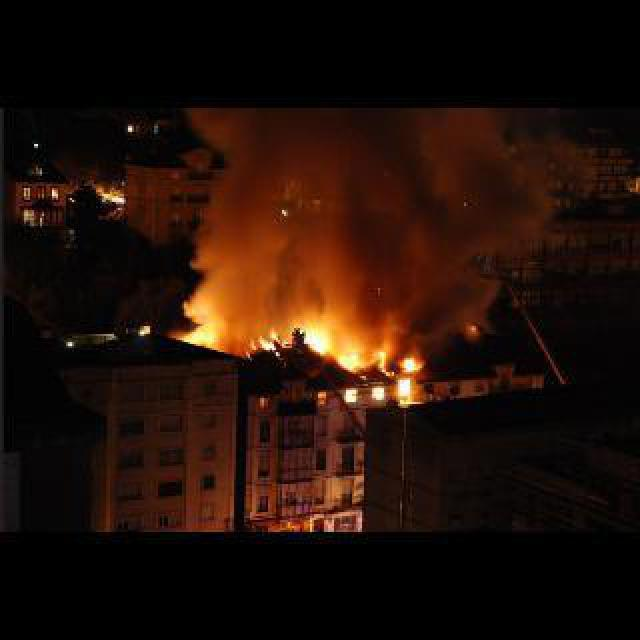Person: (248, 320, 390, 370), (402, 352, 424, 370)
fire: (199, 110, 541, 342)
